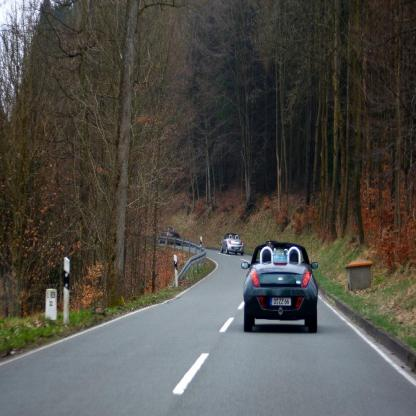Car: (243, 241, 322, 334), (222, 233, 244, 256), (160, 226, 183, 246)
